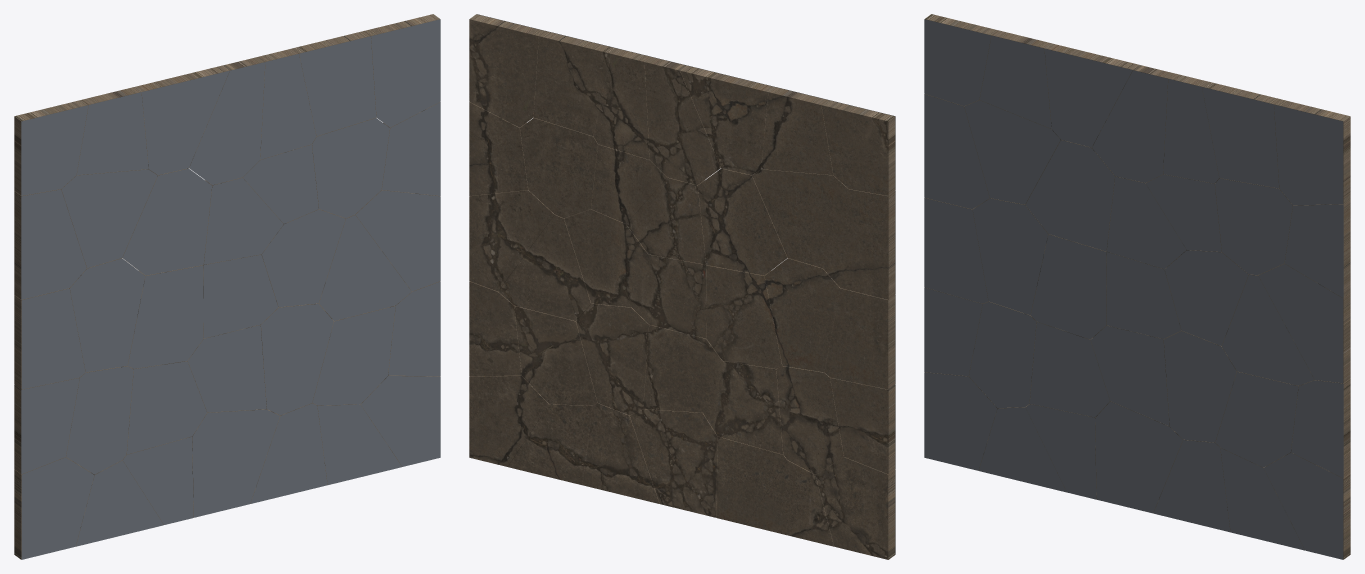
The model's file is concrete_shards_ph.glb.
The picture shows the model from 3 angles, left to right: view 1: azimuth 30°, elevation 25°; view 2: azimuth 150°, elevation 25°; view 3: azimuth 330°, elevation 25°; orthographic projection.
Visible parts, largest first — view 1: VideoShard_03, VideoShard_23, VideoShard_15, VideoShard_22, VideoShard_11, VideoShard_16, VideoShard_34, VideoShard_31, VideoShard_20, VideoShard_26, VideoShard_12, VideoShard_33 (+31 smaller); view 2: ConcreteShard_03, ConcreteShard_23, ConcreteShard_34, ConcreteShard_00, ConcreteShard_15, ConcreteShard_21, ConcreteShard_31, ConcreteShard_30, ConcreteShard_33, ConcreteShard_22, ConcreteShard_16, ConcreteShard_11 (+23 smaller); view 3: VideoShard_03, VideoShard_23, VideoShard_15, VideoShard_22, VideoShard_16, VideoShard_11, VideoShard_34, VideoShard_31, VideoShard_20, VideoShard_26, VideoShard_12, VideoShard_33 (+31 smaller).
Boxes of the visible parts, left/top/right/bottom form: VideoShard_03: left=192, top=409, right=279, bottom=517; VideoShard_23: left=122, top=168, right=211, bottom=275; VideoShard_15: left=70, top=258, right=145, bottom=372; VideoShard_22: left=61, top=169, right=157, bottom=267; VideoShard_11: left=261, top=304, right=333, bottom=415; VideoShard_16: left=128, top=265, right=203, bottom=368; VideoShard_34: left=371, top=19, right=440, bottom=127; VideoShard_31: left=189, top=62, right=265, bottom=184; VideoShard_20: left=355, top=190, right=440, bottom=291; VideoShard_26: left=312, top=118, right=389, bottom=218; VideoShard_12: left=312, top=306, right=395, bottom=405; VideoShard_33: left=299, top=36, right=376, bottom=135; ConcreteShard_03: left=630, top=409, right=717, bottom=517; ConcreteShard_23: left=698, top=168, right=787, bottom=275; ConcreteShard_34: left=469, top=14, right=545, bottom=127; ConcreteShard_00: left=815, top=457, right=895, bottom=559; ConcreteShard_15: left=764, top=258, right=840, bottom=372; ConcreteShard_21: left=823, top=189, right=895, bottom=299; ConcreteShard_31: left=644, top=57, right=720, bottom=184; ConcreteShard_30: left=680, top=65, right=774, bottom=174; ConcreteShard_33: left=533, top=31, right=617, bottom=136; ConcreteShard_22: left=752, top=169, right=848, bottom=268; ConcreteShard_16: left=706, top=265, right=782, bottom=368; ConcreteShard_11: left=576, top=303, right=649, bottom=415; VideoShard_03: left=1095, top=401, right=1182, bottom=513; VideoShard_23: left=1025, top=140, right=1114, bottom=251; VideoShard_15: left=973, top=198, right=1048, bottom=314; VideoShard_22: left=964, top=100, right=1060, bottom=204; VideoShard_16: left=1030, top=234, right=1106, bottom=339; VideoShard_11: left=1164, top=331, right=1236, bottom=442; VideoShard_34: left=1274, top=104, right=1343, bottom=205; VideoShard_31: left=1092, top=70, right=1167, bottom=182; VideoShard_20: left=1258, top=264, right=1343, bottom=383; VideoShard_26: left=1215, top=178, right=1292, bottom=274; VideoShard_12: left=1215, top=372, right=1298, bottom=467; VideoShard_33: left=1202, top=87, right=1278, bottom=188.
Size of the model in its own units: 2 by 2 by 0.059.
Materials: 36 (1 with a texture image).
